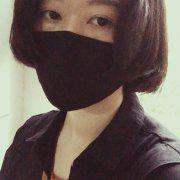OK: (31, 4, 128, 115)
